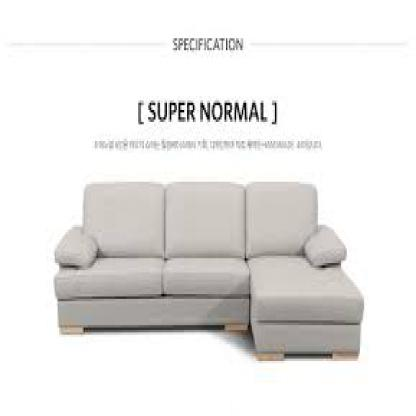sofa: (53, 177, 368, 363)
